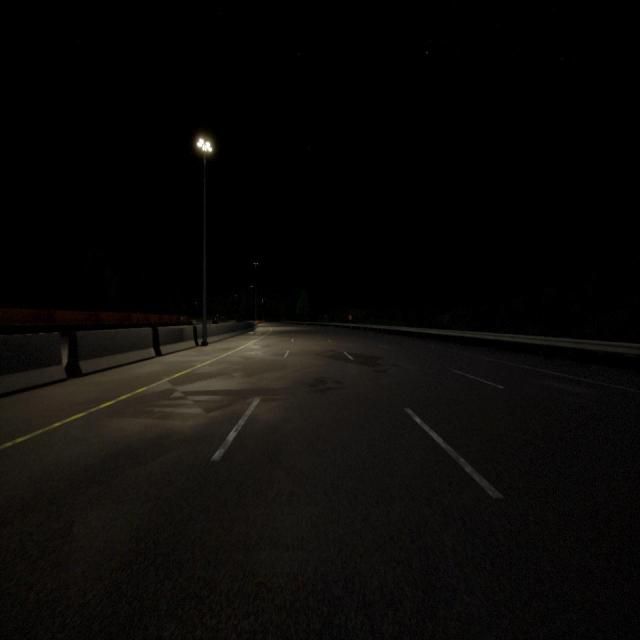Traffic_Signs: (348, 314, 352, 320)
